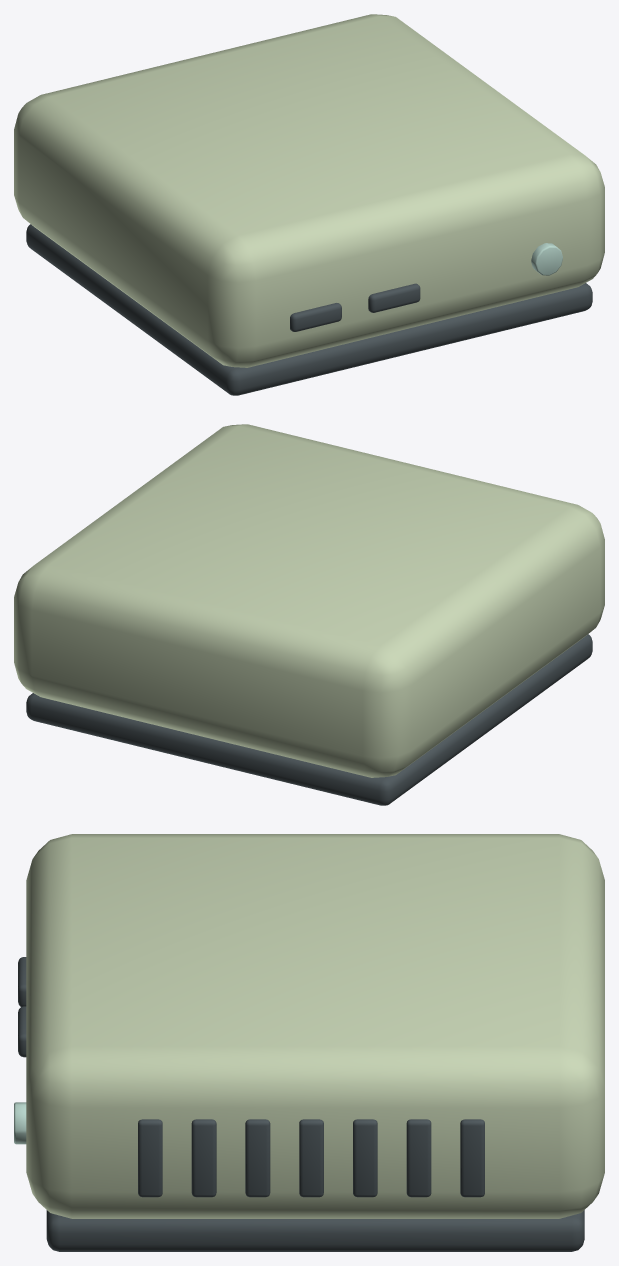
File: mini-pc.glb
3 renders of one model, top to bottom at view 1: azimuth 30°, elevation 25°; view 2: azimuth 150°, elevation 25°; view 3: azimuth 270°, elevation 25°, orthographic. The views are drawn at different scales.
Parts seen in each view (by area): view 1: catalog_surface_RealismUV, catalog_surface_UVMap; view 2: catalog_surface_RealismUV; view 3: catalog_surface_RealismUV, catalog_surface_UVMap.
Boxes of the visible parts, left/top/right/bottom form: catalog_surface_RealismUV: left=14, top=14, right=604, bottom=395; catalog_surface_UVMap: left=531, top=243, right=562, bottom=275; catalog_surface_RealismUV: left=14, top=424, right=604, bottom=805; catalog_surface_RealismUV: left=18, top=834, right=604, bottom=1251; catalog_surface_UVMap: left=14, top=1102, right=26, bottom=1144.
Size of the model in its own units: 0.14 by 0.052 by 0.14.
